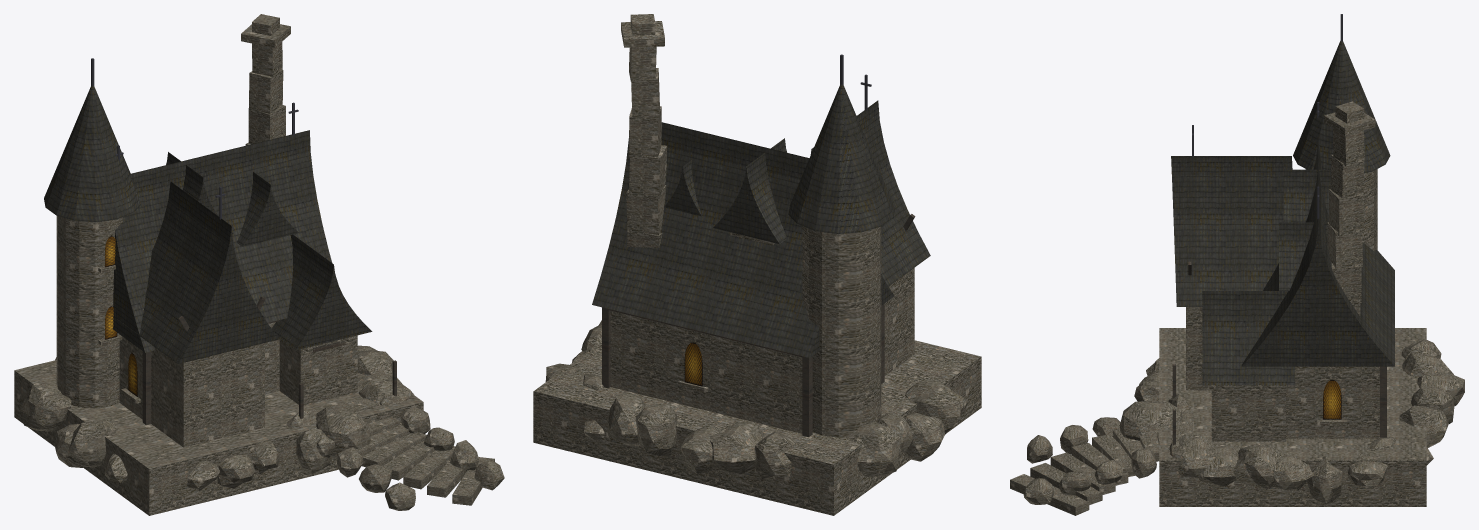
Rendered from casa_strega.glb.
The picture shows the model from 3 angles, left to right: view 1: azimuth 30°, elevation 25°; view 2: azimuth 150°, elevation 25°; view 3: azimuth 270°, elevation 25°; orthographic projection. The views are drawn at different scales.
Visible parts, largest first — view 1: casaStrega; view 2: casaStrega; view 3: casaStrega.
Boxes of the visible parts, x1,y1,x2,y2 form: casaStrega: [14, 14, 504, 515]; casaStrega: [533, 14, 981, 515]; casaStrega: [1010, 14, 1464, 515].
Size of the model in its own units: 16.44 by 17.9 by 19.57.
Materials: 5 (4 with a texture image).
